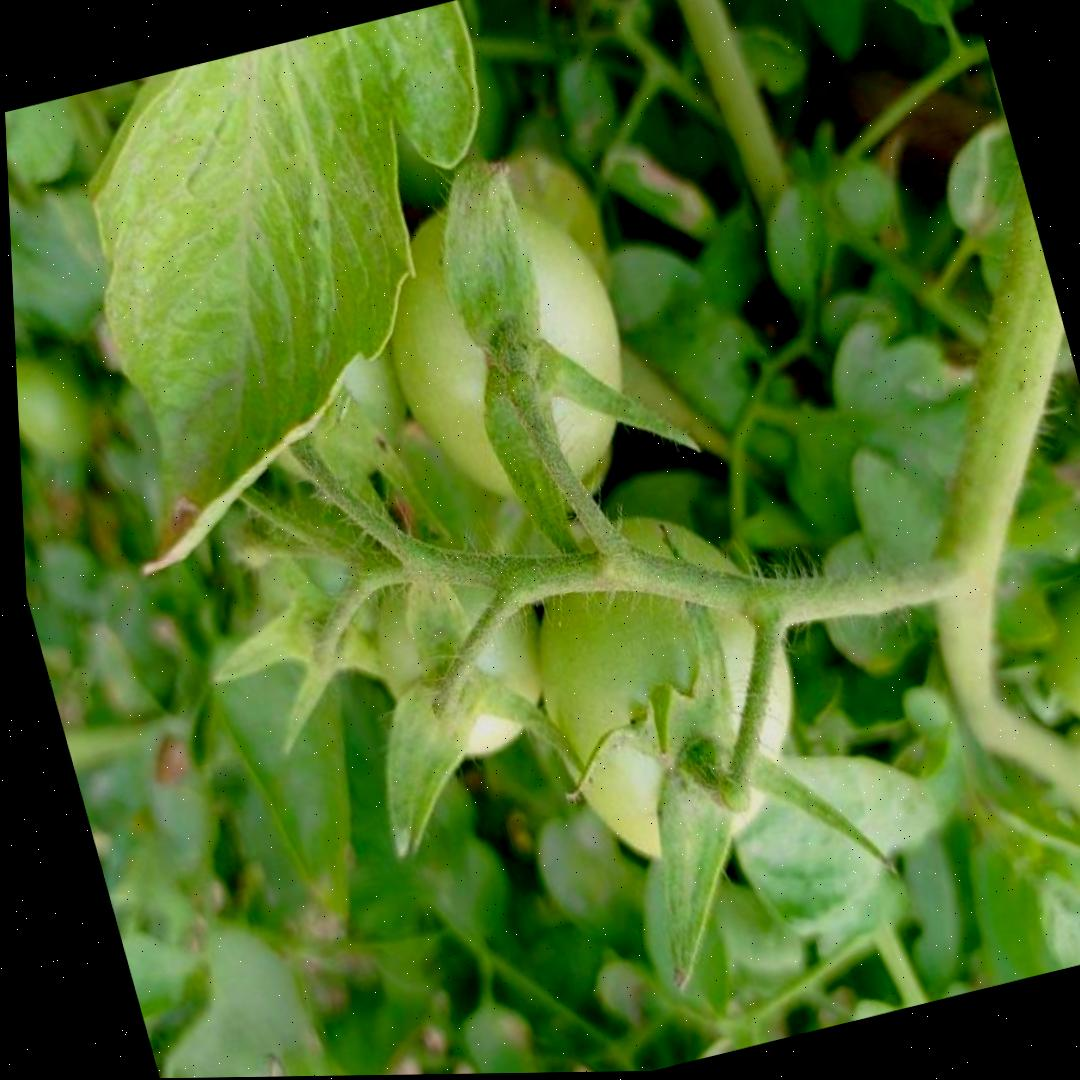mentah: (497, 487, 833, 883), (353, 172, 660, 526), (352, 530, 570, 773)
